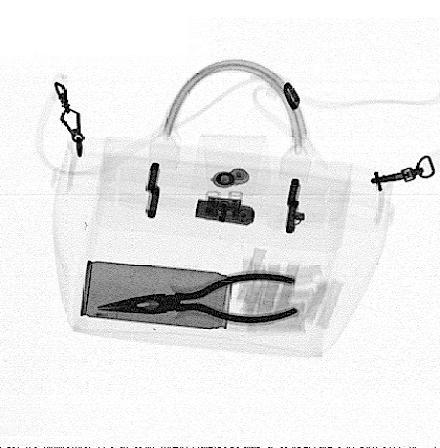Pliers: (93, 271, 303, 324)
